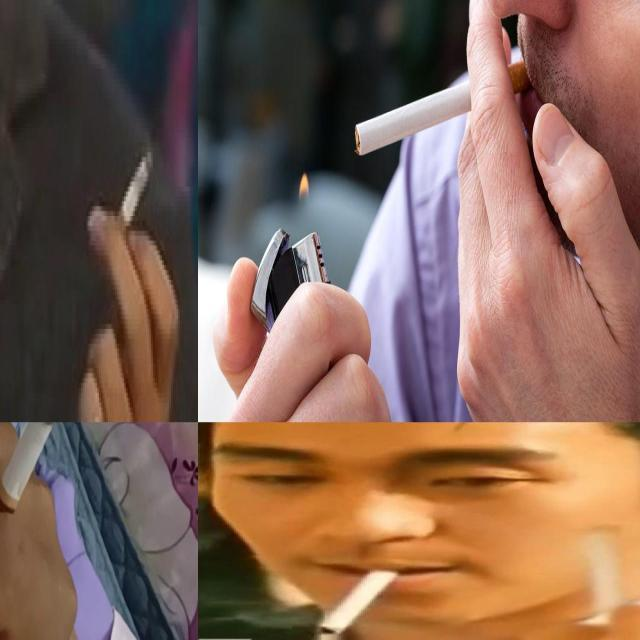smoking: (356, 58, 538, 158), (0, 422, 80, 550), (319, 562, 413, 634), (108, 149, 154, 255)
